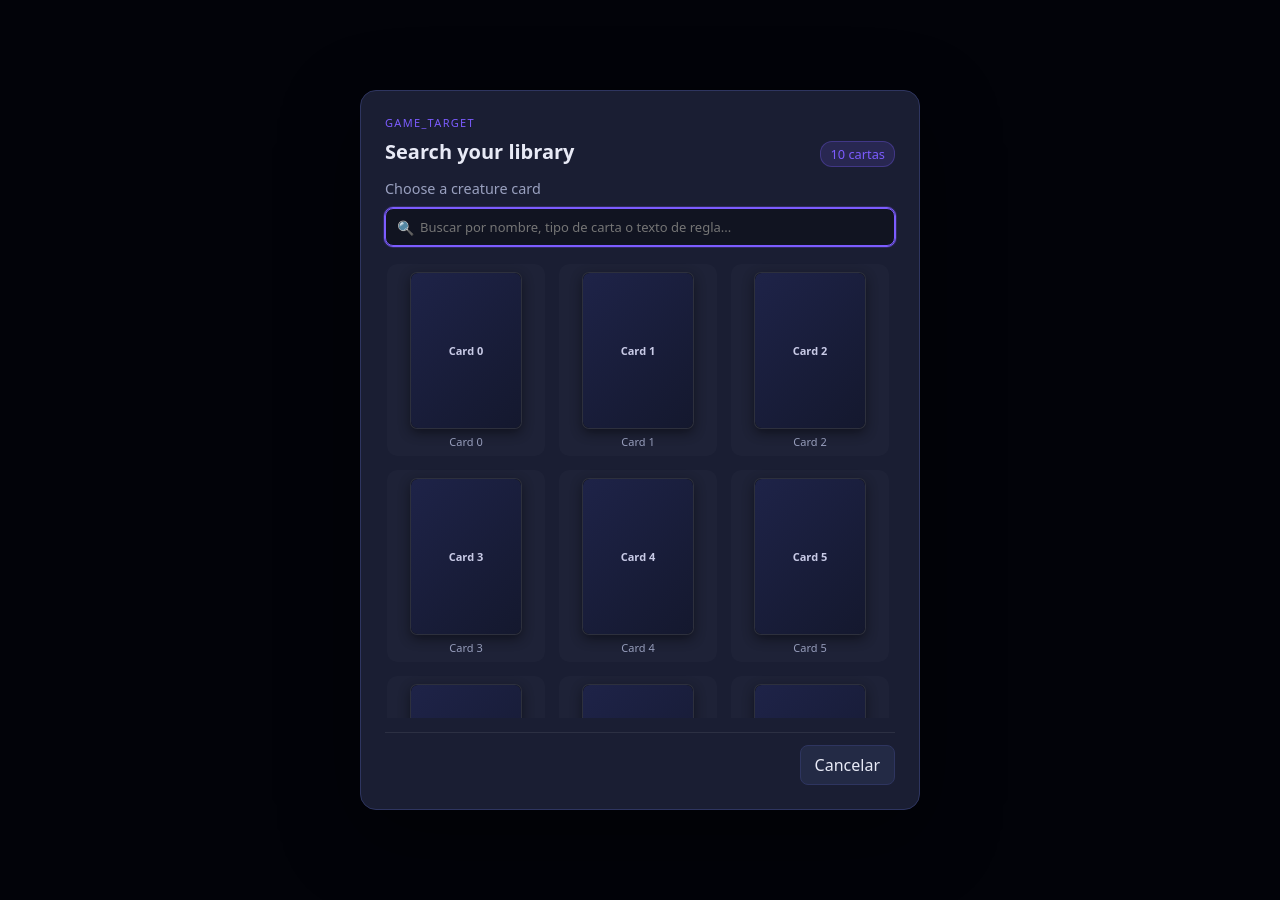
Test case: CardGrid › shows empty state when filter matches nothing
The width and height of the screenshot is (1280, 900).
Step 1. Type "zzzznothing" into the field with placeholder "Buscar por nombre, tipo de carta o texto de regla..." → point(640, 227), box [385,208,895,246]
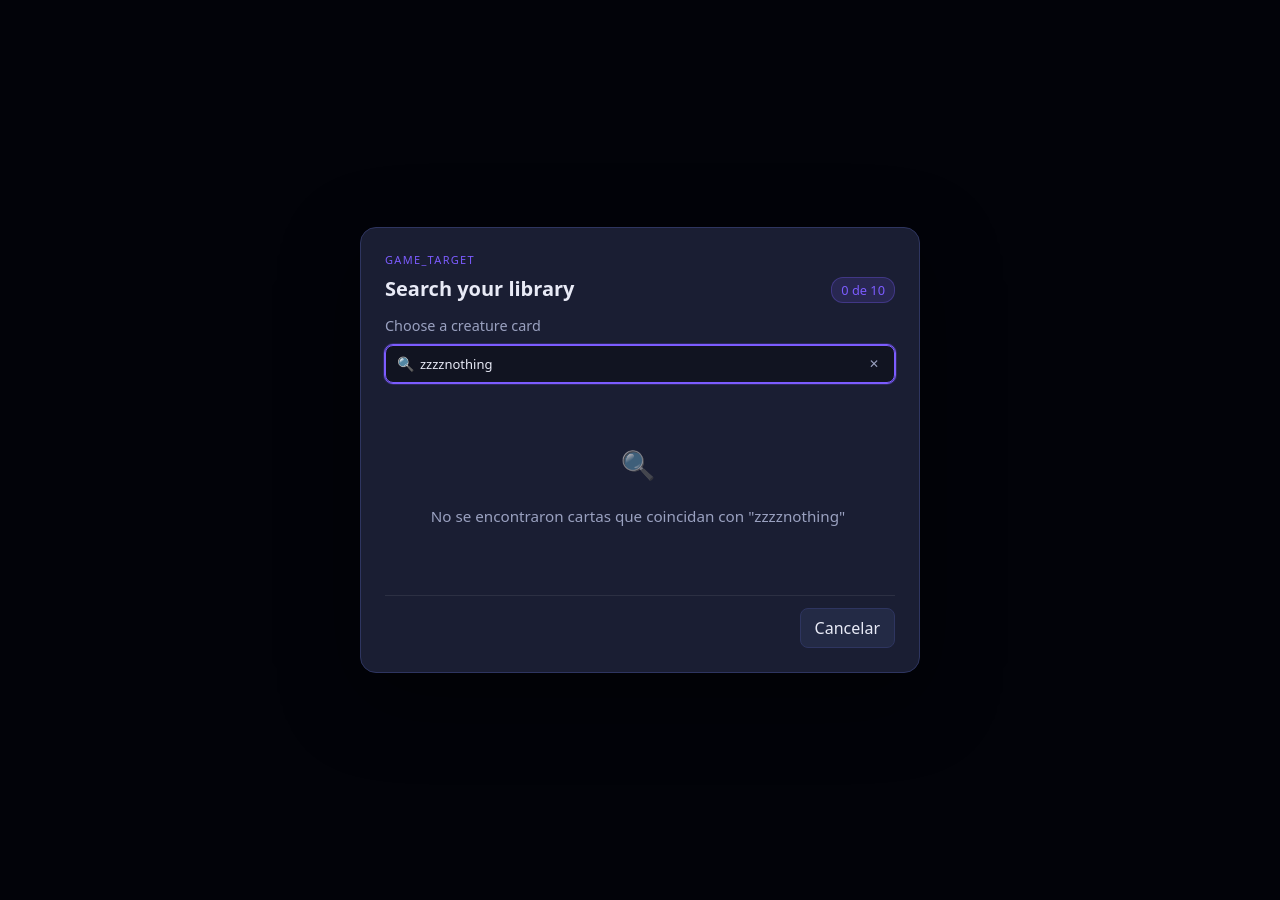
Check: the text "No se encontraron cartas" is shown, box [431,506,754,526]
